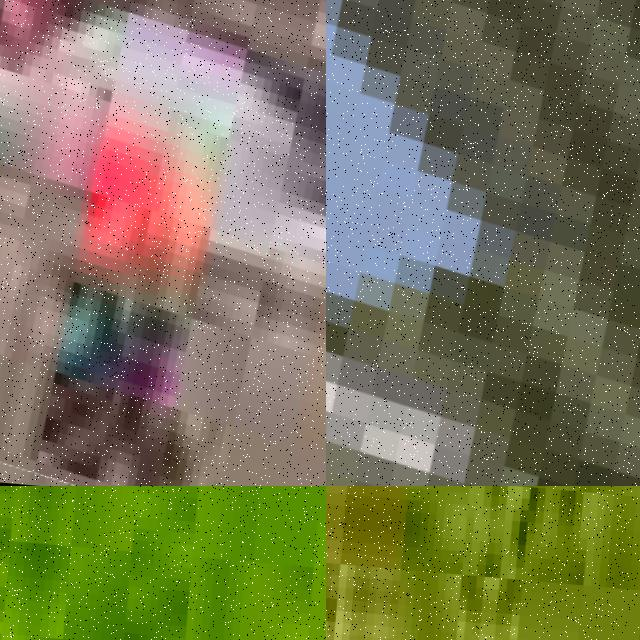drone: (0, 0, 326, 486), (326, 0, 640, 486)
